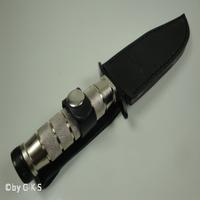knife: (13, 9, 187, 180)
